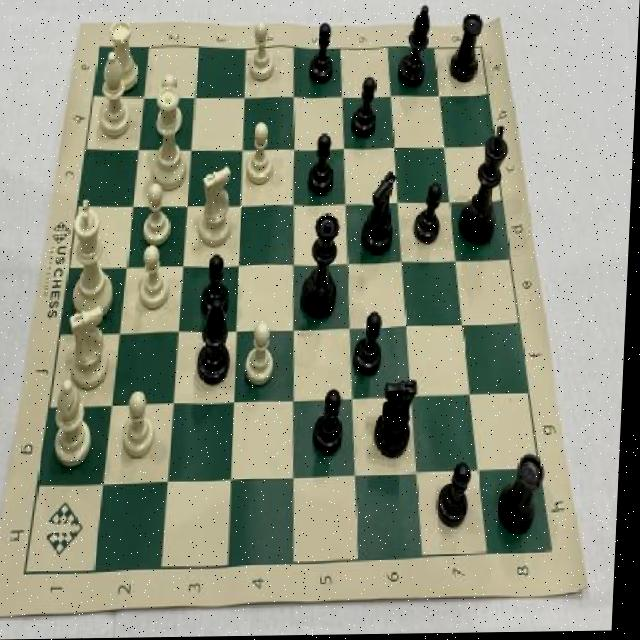bishop: (199, 297, 238, 386), (397, 1, 434, 90)
black-bishop: (460, 125, 513, 247)
black-king: (378, 377, 424, 462), (363, 172, 400, 258)
black-knight: (437, 462, 478, 532), (313, 388, 351, 460), (354, 309, 388, 380), (413, 182, 447, 247), (203, 251, 235, 320), (307, 131, 338, 197), (350, 76, 380, 140), (311, 21, 337, 87)
black-pawn: (301, 208, 345, 320)
black-queen: (498, 452, 552, 539), (448, 11, 485, 86)
black-rook: (53, 378, 99, 467), (97, 51, 134, 140)
white-bishop: (70, 197, 120, 322)
white-king: (67, 306, 114, 391), (197, 166, 238, 249)
white-knight: (122, 388, 162, 463), (140, 244, 175, 312), (142, 181, 177, 246), (248, 320, 280, 389), (246, 120, 276, 188), (248, 20, 277, 85), (157, 73, 187, 133)
white-pawn: (146, 87, 195, 193)
white-queen: (106, 17, 142, 94)
